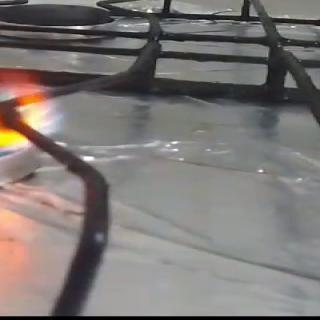fire: (0, 29, 71, 163)
